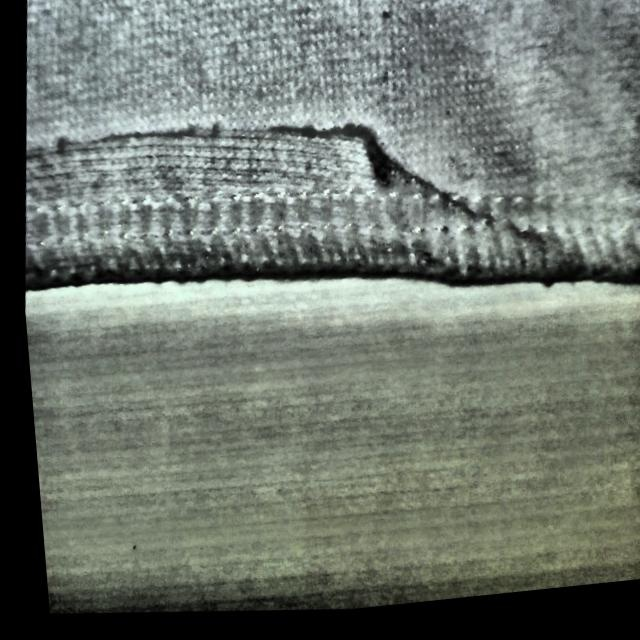seam: (6, 41, 448, 323)
